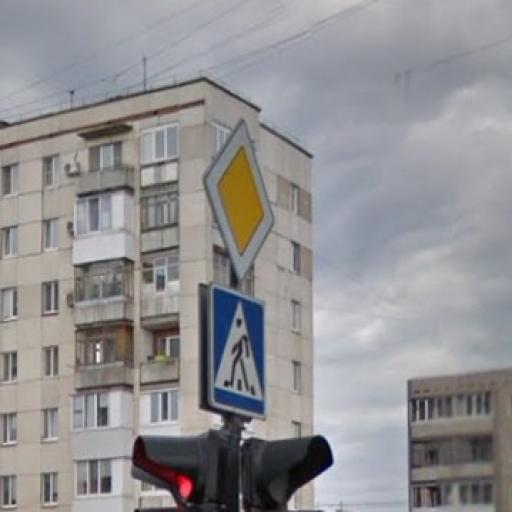traffic_sign: (201, 115, 279, 287), (204, 282, 271, 425)
